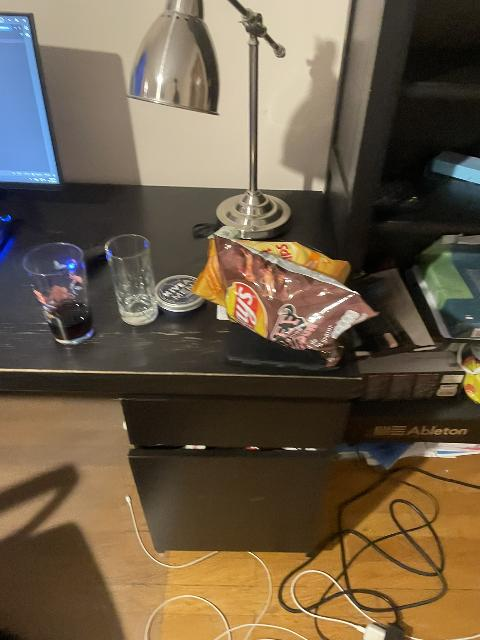Chio Hula Hoops Cheese 70g: (195, 234, 349, 323)
Lays Beef Grilled Ribs 125g: (197, 232, 371, 360)
